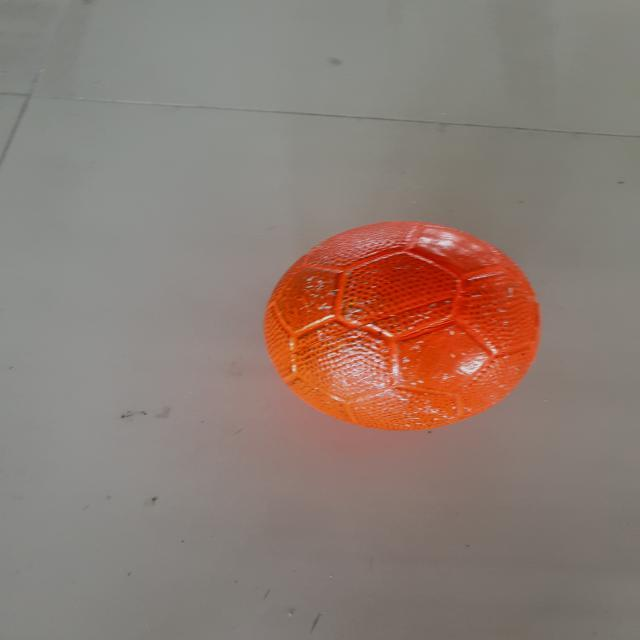bola: (252, 209, 556, 436)
